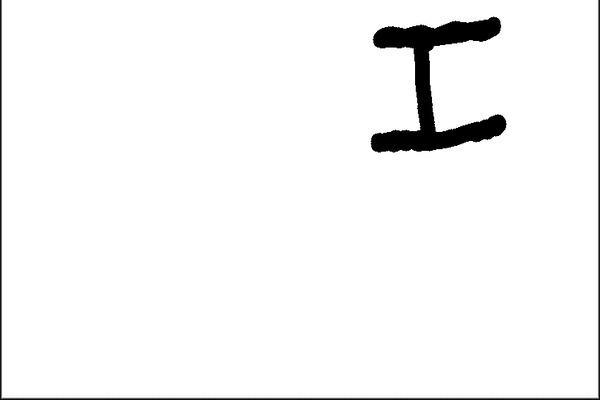i: (342, 15, 517, 168)
